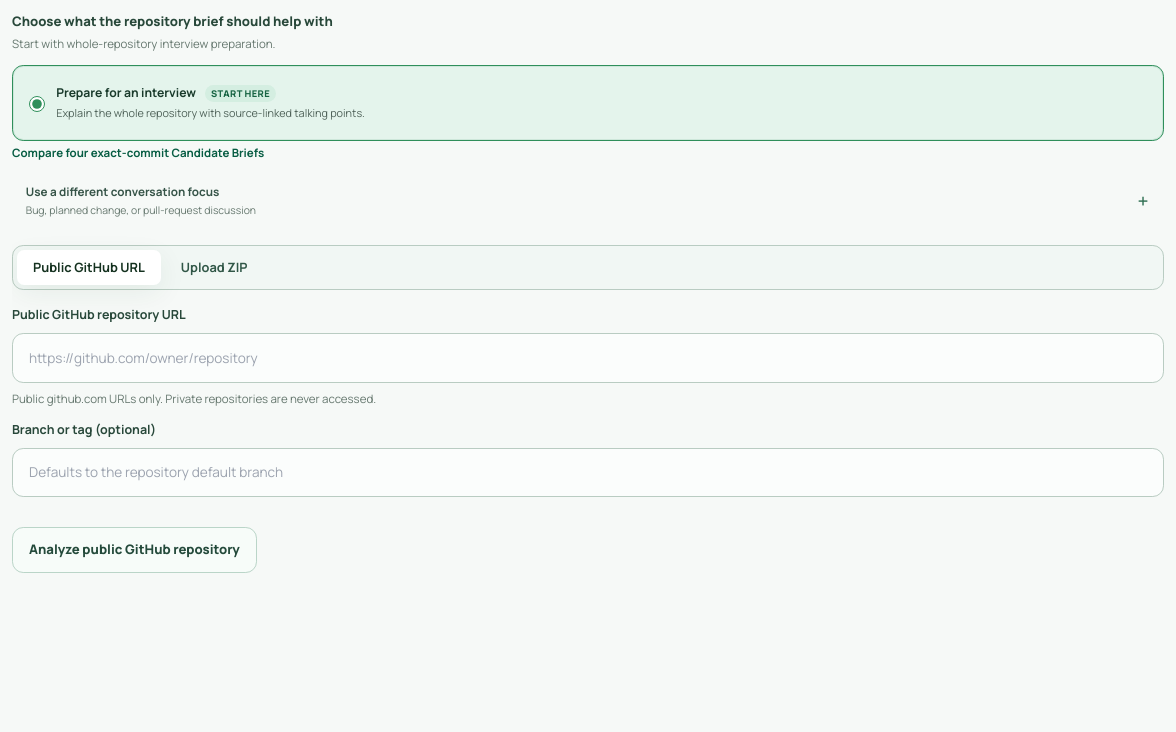
Test case: InputForm › shows GitHub first and validates the public URL
Click the button "Analyze public GitHub repository" at (134, 550), box [12,527,257,572]
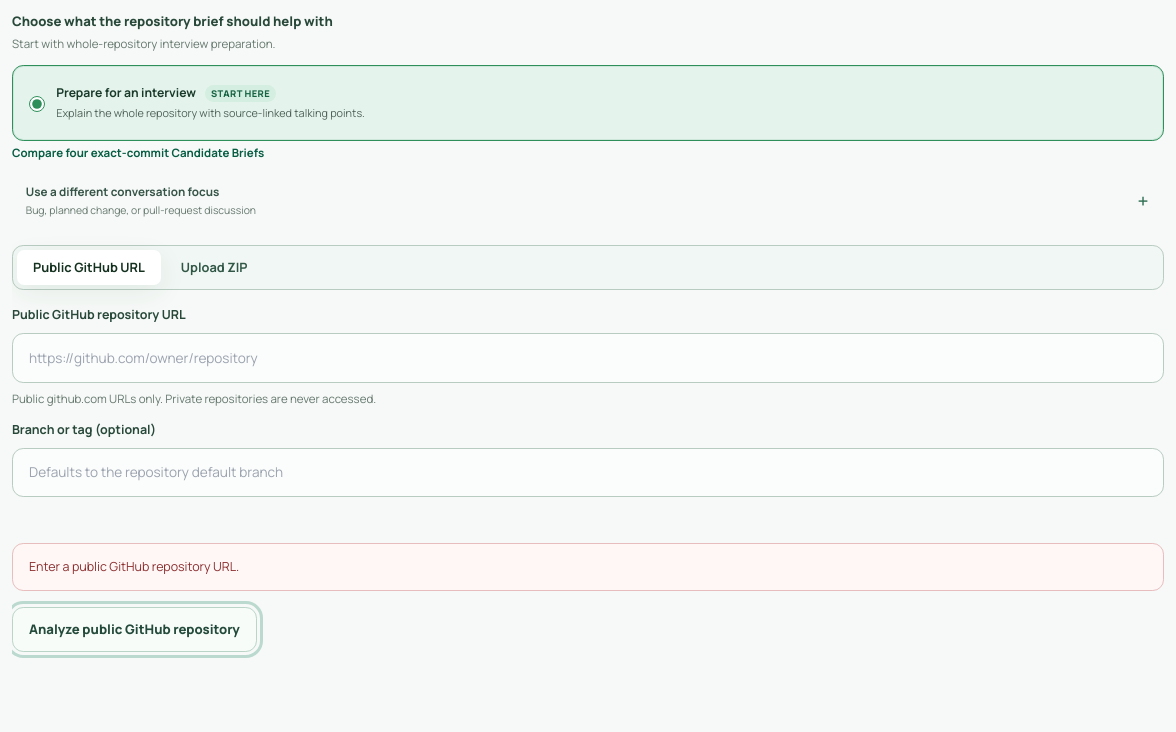
expect the message shows "GitHub": met, box [29,558,239,574]
